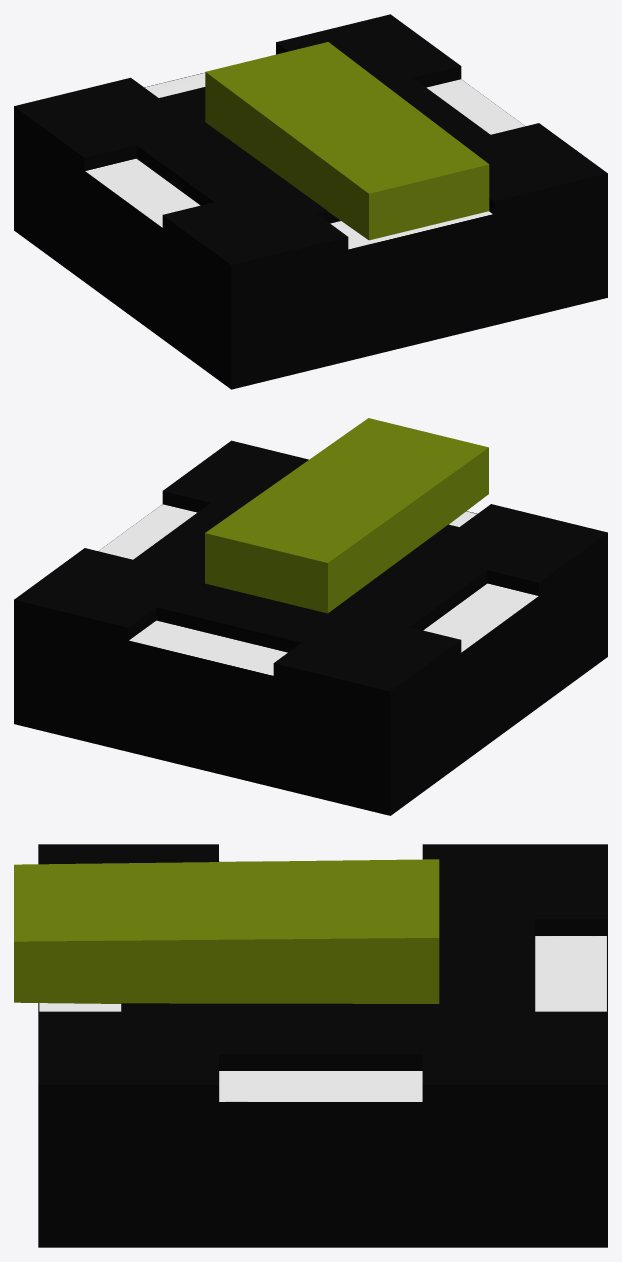
File: Turret.obj
3 renders of one model, top to bottom at view 1: azimuth 30°, elevation 25°; view 2: azimuth 150°, elevation 25°; view 3: azimuth 270°, elevation 25°, orthographic. The views are drawn at different scales.
Parts seen in each view (by area): view 1: Box001, Box002; view 2: Box001, Box002; view 3: Box001, Box002.
Part boxes in pixels (x1,y1,x2,y2): Box001: [14, 14, 607, 389]; Box002: [205, 42, 489, 240]; Box001: [14, 440, 607, 815]; Box002: [205, 418, 488, 613]; Box001: [38, 844, 607, 1247]; Box002: [14, 859, 439, 1003].
Bounding box in the file's own units: 39.37 × 17.46 × 41.05.
